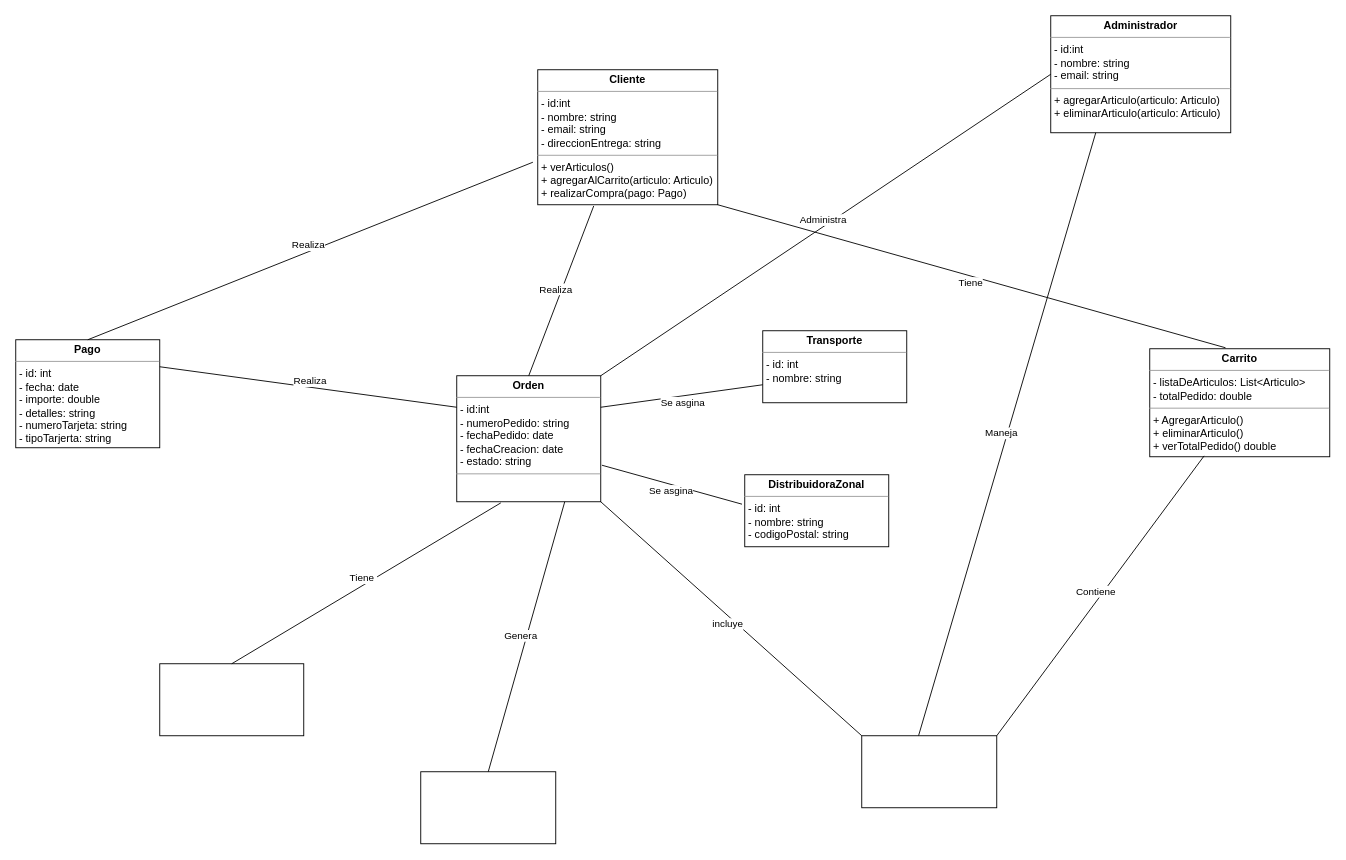
Image size: 1346x860. Some labels were removed from this diagram. The box of each missing label's shape, as (x1, y1, x2, y2) in pixels:
Articulo - id: int - nombre: string - categoria: string: (861, 735, 997, 808)
DatosEnvio - id: int - tipo: string - direccion: string: (159, 663, 304, 736)
Envio - id: int - nroGuia: string: (420, 771, 556, 844)
